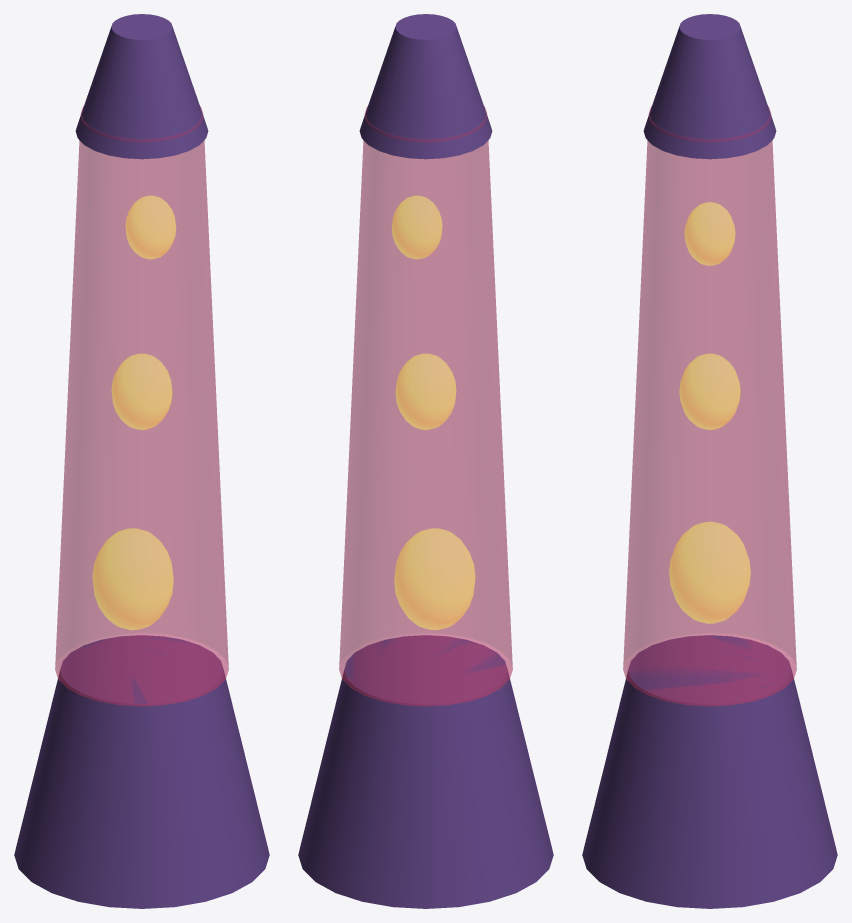
Rendered from lava_lamp.fbx.
3 views of the same model, side by side, from view 1: azimuth 30°, elevation 25°; view 2: azimuth 150°, elevation 25°; view 3: azimuth 270°, elevation 25° (orthographic).
Visible parts, largest first — view 1: Glass, Lamp, Blob1, Blob2, Blob3; view 2: Glass, Lamp, Blob1, Blob2, Blob3; view 3: Glass, Lamp, Blob1, Blob2, Blob3.
Part boxes in pixels (left/top/right/bottom): Glass: left=55, top=106, right=228, bottom=706; Lamp: left=14, top=14, right=269, bottom=908; Blob1: left=92, top=528, right=173, bottom=630; Blob2: left=111, top=353, right=172, bottom=429; Blob3: left=125, top=195, right=176, bottom=259; Glass: left=339, top=106, right=512, bottom=706; Lamp: left=298, top=14, right=553, bottom=908; Blob1: left=394, top=528, right=475, bottom=630; Blob2: left=395, top=353, right=456, bottom=429; Blob3: left=391, top=195, right=442, bottom=259; Glass: left=623, top=106, right=796, bottom=706; Lamp: left=582, top=14, right=837, bottom=908; Blob1: left=669, top=521, right=750, bottom=623; Blob2: left=679, top=353, right=740, bottom=429; Blob3: left=684, top=202, right=735, bottom=265.
Size of the model in its own units: 0.1 by 0.3575 by 0.1.
